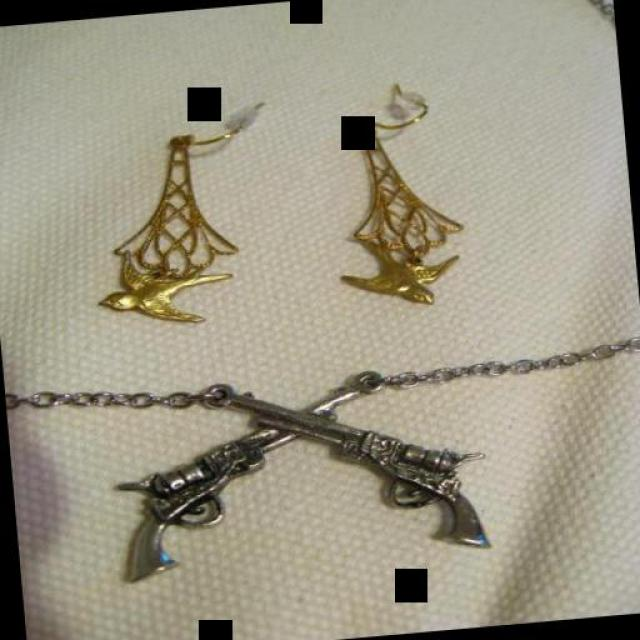gun: (96, 360, 379, 591), (201, 352, 494, 574)
